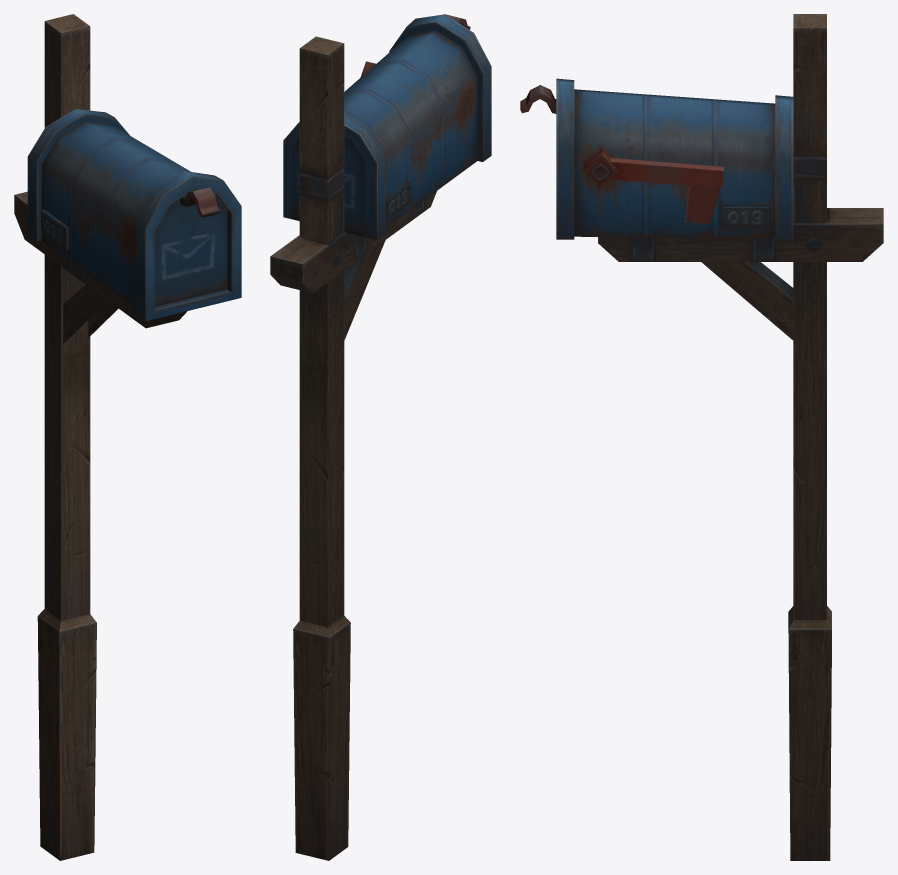
The model's file is mf_expressempty.FBX.
3 renders of one model, left to right at view 1: azimuth 30°, elevation 25°; view 2: azimuth 150°, elevation 25°; view 3: azimuth 270°, elevation 25°, orthographic. The views are drawn at different scales.
Parts seen in each view (by area): view 1: mf_expressempty; view 2: mf_expressempty; view 3: mf_expressempty.
Part boxes in pixels (box(x1,y1,x2,y2)): mf_expressempty: box(14, 14, 241, 860); mf_expressempty: box(270, 14, 491, 860); mf_expressempty: box(520, 14, 883, 860).
Bounding box in the file's own units: 0.1848 × 1.38 × 0.5456.
1 material, 1 textured.
